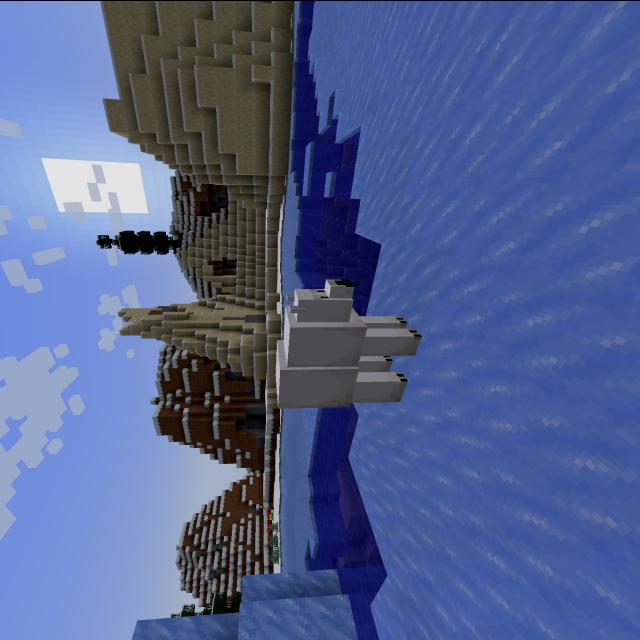Polar Bear: (266, 273, 442, 423)
